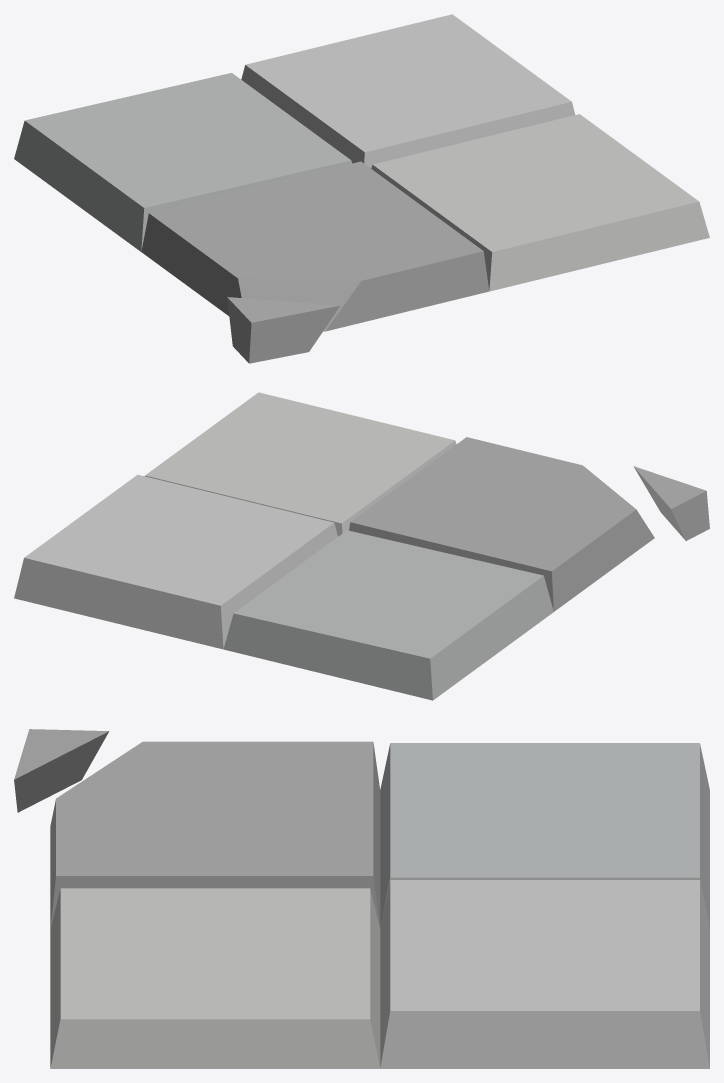
The model's file is Rock_Tiles_m_05.fbx.
The picture shows the model from 3 angles, top to bottom: view 1: azimuth 30°, elevation 25°; view 2: azimuth 150°, elevation 25°; view 3: azimuth 270°, elevation 25°; orthographic projection. The views are drawn at different scales.
Visible parts, largest first — view 1: Rock_Tiles_m_05; view 2: Rock_Tiles_m_05; view 3: Rock_Tiles_m_05.
Part boxes in pixels (x1=…): Rock_Tiles_m_05: x1=14, y1=14, x2=709, y2=363; Rock_Tiles_m_05: x1=14, y1=392, x2=709, y2=700; Rock_Tiles_m_05: x1=14, y1=729, x2=709, y2=1068.
Bounding box in the file's own units: 85.13 × 8.07 × 84.42.
